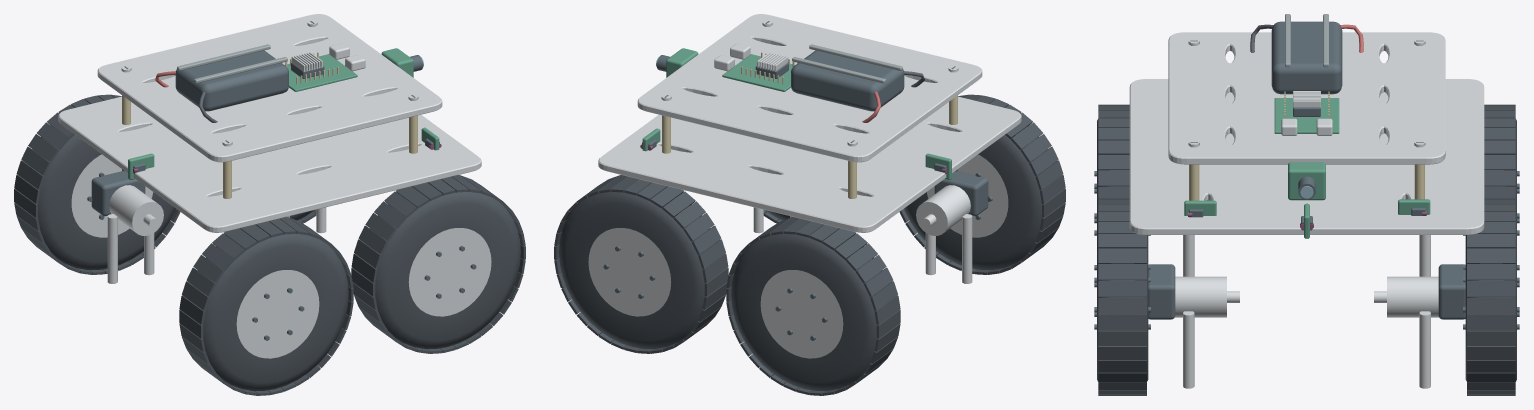
The model's file is rover.glb.
The picture shows the model from 3 angles, left to right: view 1: azimuth 30°, elevation 25°; view 2: azimuth 150°, elevation 25°; view 3: azimuth 270°, elevation 25°; orthographic projection. The views are drawn at different scales.
Size of the model in its own units: 0.285 by 0.2106 by 0.2895.
